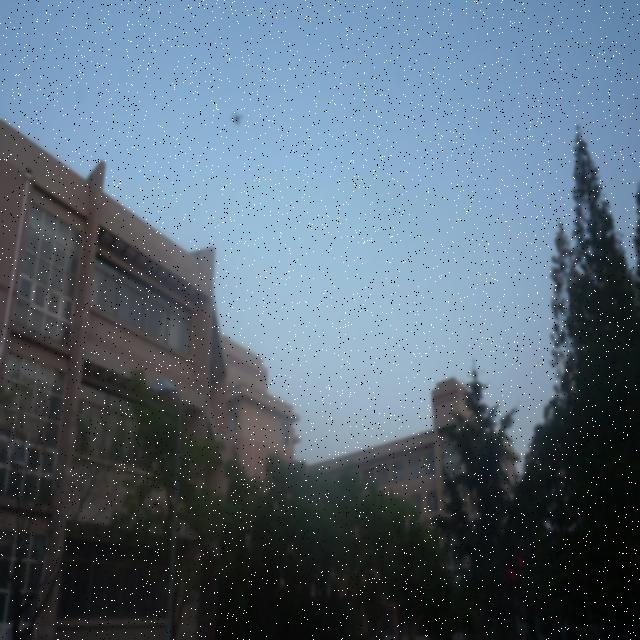UAV: (229, 111, 244, 125)
